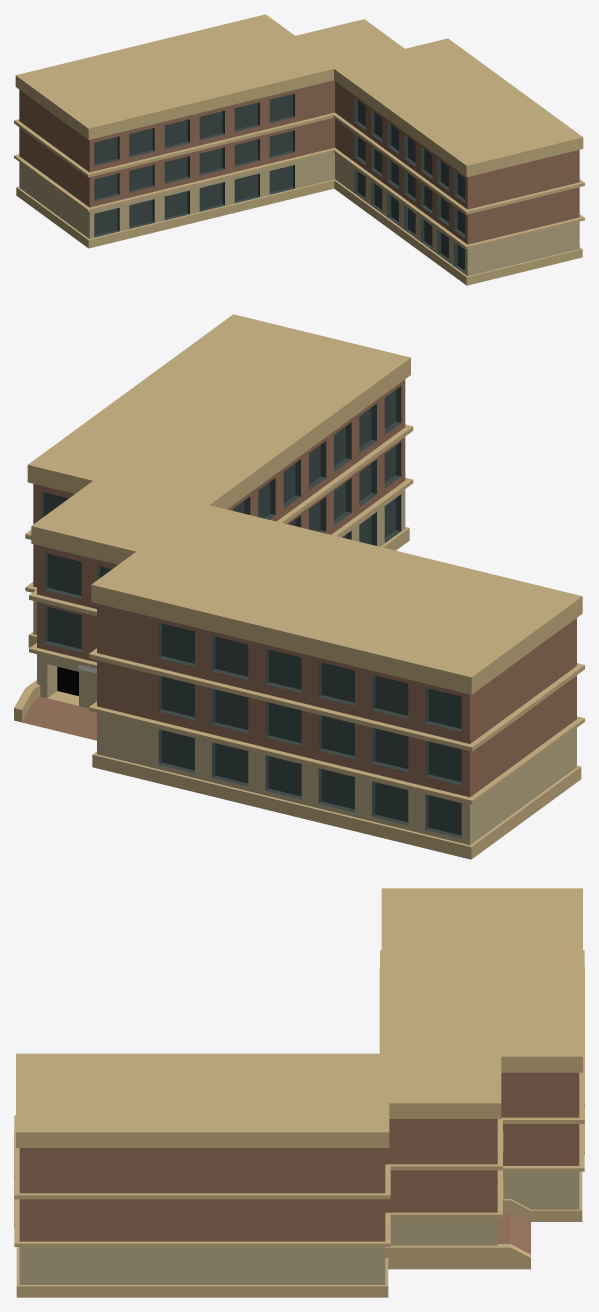
The model's file is IESCaravaca3.fbx.
3 views of the same model, one above another, from view 1: azimuth 30°, elevation 25°; view 2: azimuth 150°, elevation 25°; view 3: azimuth 270°, elevation 25° (orthographic). The views are drawn at different scales.
Visible parts, largest first — view 1: Building; view 2: Building; view 3: Building.
Part boxes in pixels (x1=…): Building: x1=14, y1=14, x2=584, y2=285; Building: x1=14, y1=314, x2=584, y2=859; Building: x1=14, y1=888, x2=584, y2=1297.
Bounding box in the file's own units: 295 × 92.93 × 290.
